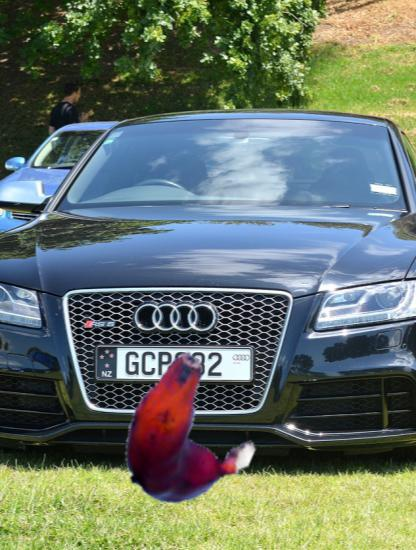Banana: (107, 359, 250, 502)
